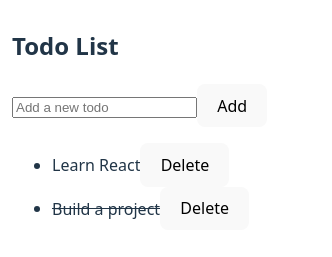
Test: TodoList Component › can add a new todo
In the field named "todo-input": (104, 107) [12,97,197,118], type "New Task"
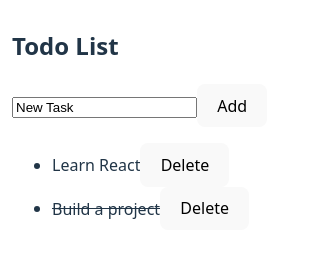
Click the button "Add": (232, 106) [197,84,267,127]
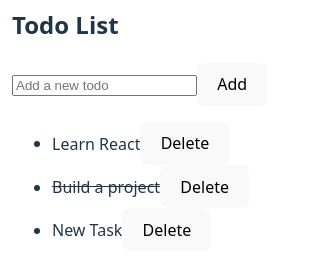
Result: the list item "New Task" is shown at [52,219,122,241]
